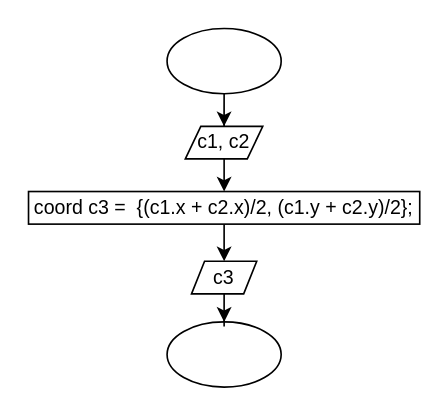
This 448x416 diagram has some shape labels left out. Each missing label, with the box of its shape:
Конец: (165, 320, 281, 387)
Начало: (165, 27, 281, 94)
